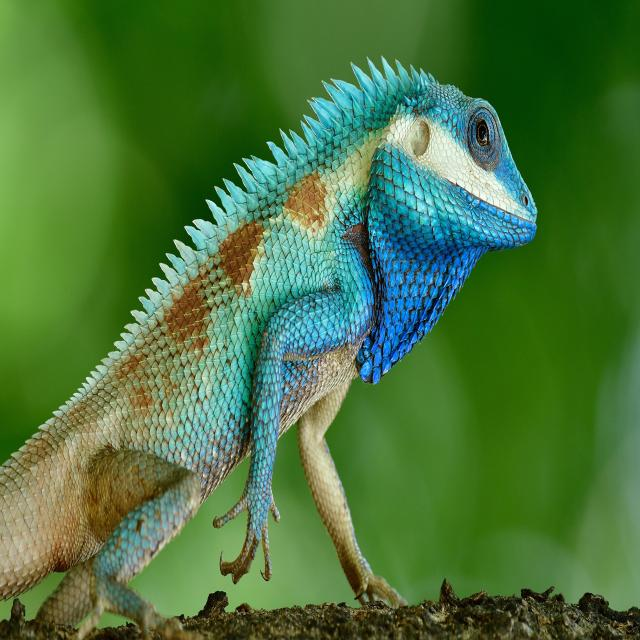Lizard: (0, 42, 544, 640)
